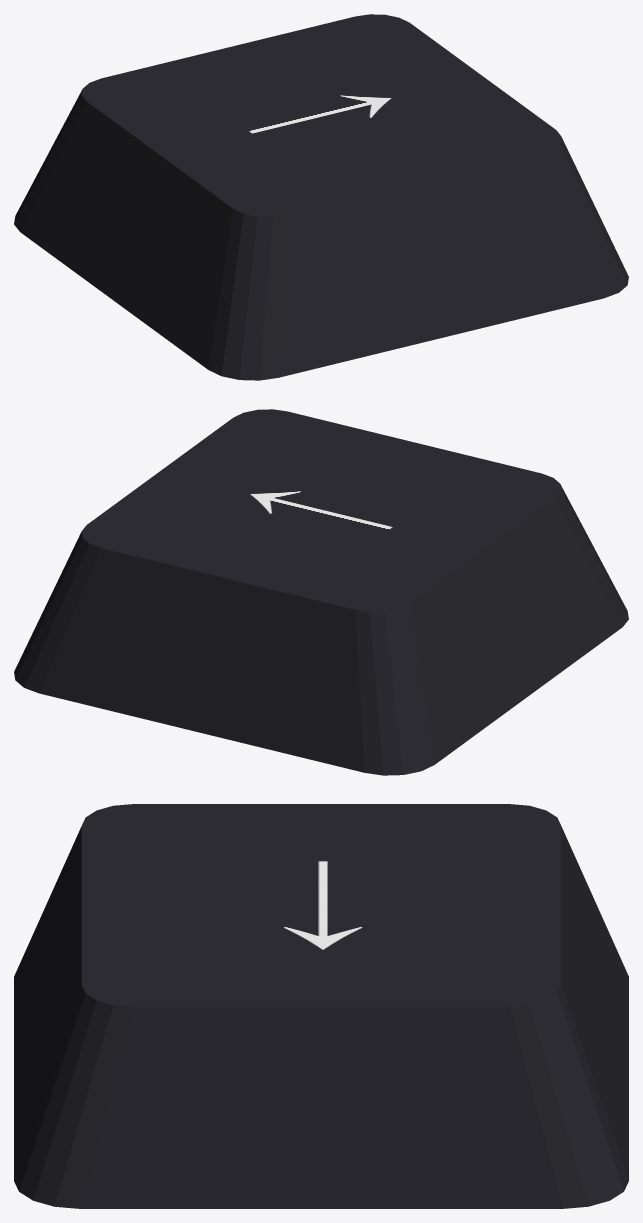
The model's file is KeyBoradRight.obj.
The picture shows the model from 3 angles, top to bottom: view 1: azimuth 30°, elevation 25°; view 2: azimuth 150°, elevation 25°; view 3: azimuth 270°, elevation 25°; orthographic projection. The views are drawn at different scales.
Visible parts, largest first — view 1: key.003; view 2: key.003; view 3: key.003.
Part boxes in pixels (x1,y1,x2,y2): key.003: [14, 14, 628, 380]; key.003: [14, 409, 628, 775]; key.003: [14, 804, 628, 1208].
Bounding box in the file's own units: 2 × 0.6227 × 2.
Materials: 1 (1 with a texture image).
